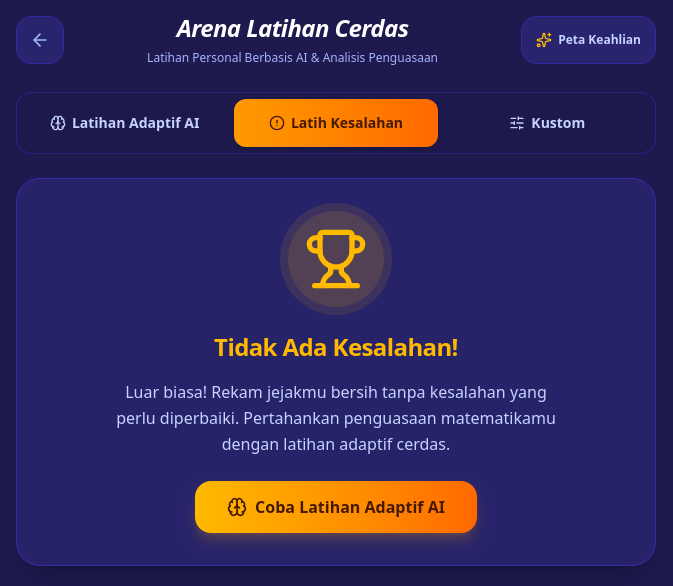
Test: PracticeHubView Component › Remediation Mode › renders zero-mistakes congratulatory card with trophy and switch button when no mistakes exist
expect the heading "Tidak Ada Kesalahan!" is shown: met, box [214, 331, 458, 363]
expect the element with test id "zero-mistakes-trophy" is shown: met, box [288, 211, 384, 307]
Click the button "Coba Latihan Adaptif AI".
click(336, 507)  # box [195, 481, 477, 533]
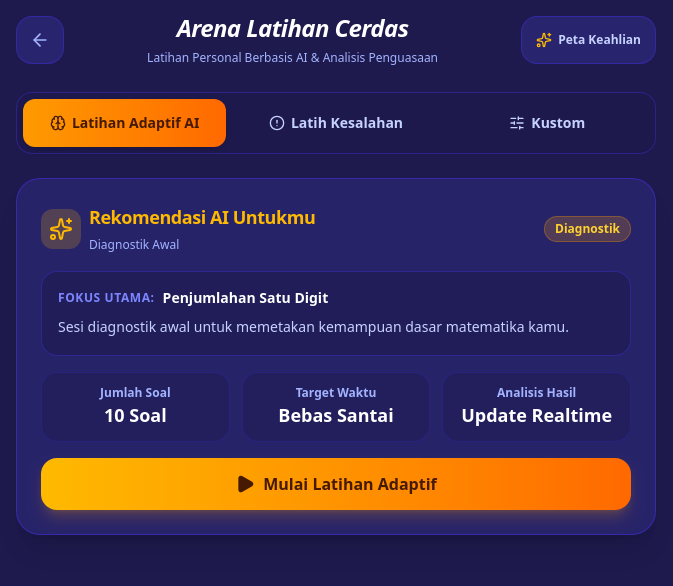
expect the heading "Rekomendasi AI Untukmu" is shown: met, box [89, 203, 315, 231]
